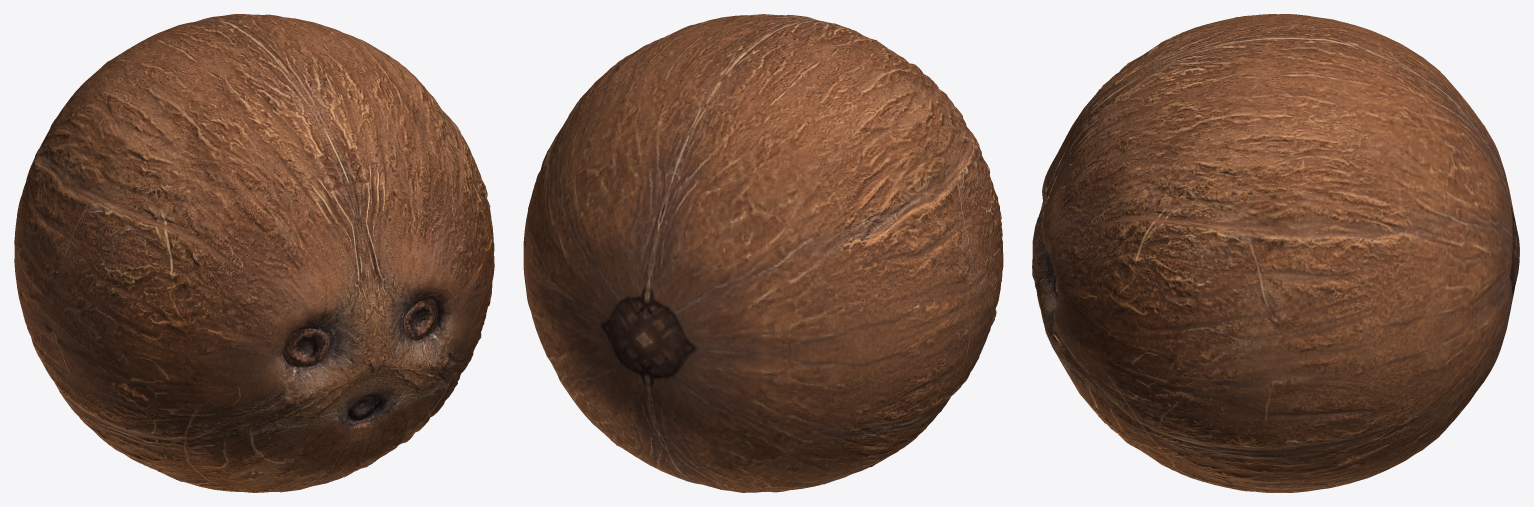
File: meshy-coconut.glb
The picture shows the model from 3 angles, left to right: view 1: azimuth 30°, elevation 25°; view 2: azimuth 150°, elevation 25°; view 3: azimuth 270°, elevation 25°; orthographic projection.
Visible parts, largest first — view 1: output_unwrapped; view 2: output_unwrapped; view 3: output_unwrapped.
Boxes of the visible parts, <box> form: output_unwrapped: <box>14,14,494,492</box>; output_unwrapped: <box>523,14,1003,492</box>; output_unwrapped: <box>1032,14,1519,492</box>.
Bounding box in the file's own units: 1.85 × 1.86 × 1.9.
Materials: 1 (1 with a texture image).
